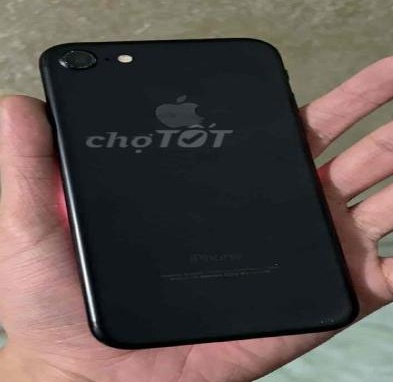scratch: (60, 46, 102, 68), (308, 315, 341, 326), (270, 258, 289, 271)
